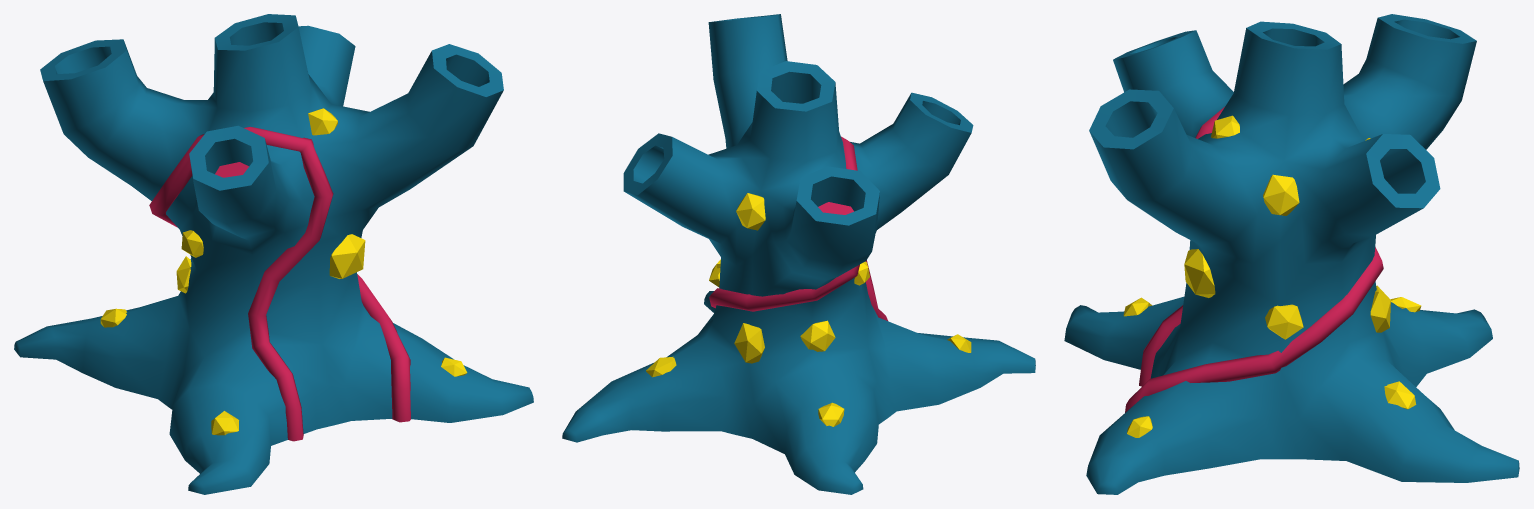
File: Plant_8_blue.fbx
3 views of the same model, side by side, from view 1: azimuth 30°, elevation 25°; view 2: azimuth 150°, elevation 25°; view 3: azimuth 270°, elevation 25° (orthographic). The views are drawn at different scales.
Visible parts, largest first — view 1: Plant_8_blue; view 2: Plant_8_blue; view 3: Plant_8_blue.
Part boxes in pixels (<box>): Plant_8_blue: <box>14,14,533,494</box>; Plant_8_blue: <box>562,14,1035,494</box>; Plant_8_blue: <box>1064,14,1519,494</box>.
Bounding box in the file's own units: 2.76 × 2.68 × 2.95.
